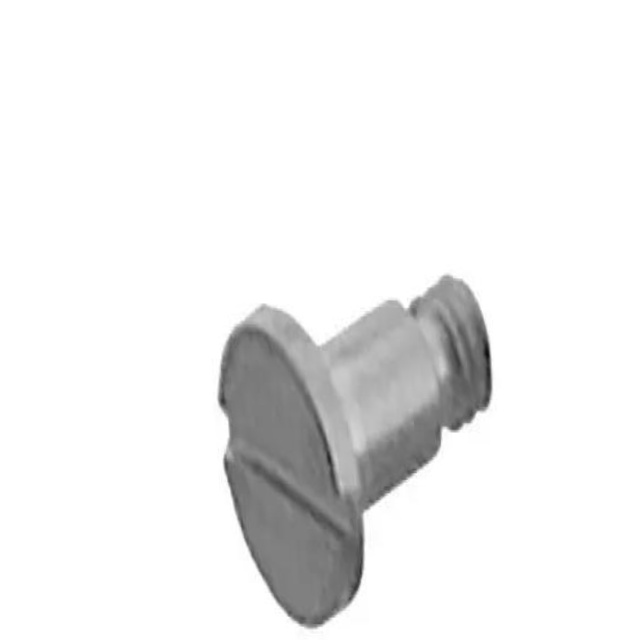duz: (209, 302, 372, 632)
